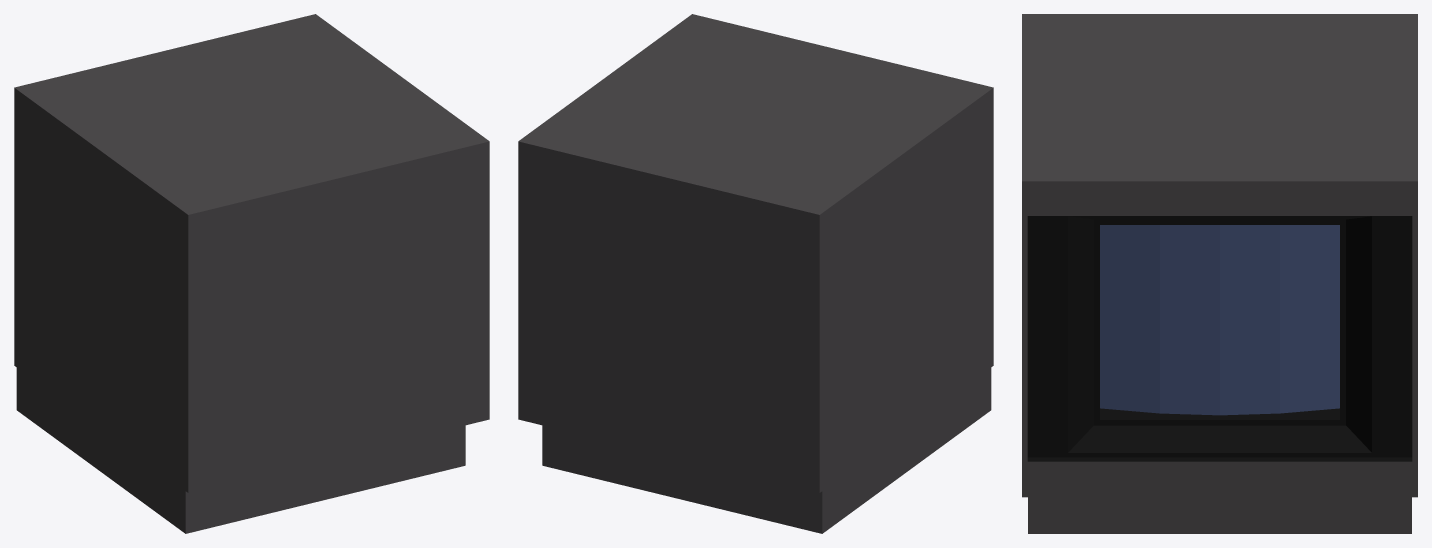
File: Display.glb
The picture shows the model from 3 angles, left to right: view 1: azimuth 30°, elevation 25°; view 2: azimuth 150°, elevation 25°; view 3: azimuth 270°, elevation 25°; orthographic projection. The views are drawn at different scales.
Parts seen in each view (by area): view 1: Cube; view 2: Cube; view 3: Cube.
Part boxes in pixels (left/top/right/bottom): Cube: left=14, top=14, right=489, bottom=533; Cube: left=518, top=14, right=993, bottom=533; Cube: left=1022, top=14, right=1417, bottom=533.
Size of the model in its own units: 2 by 2.03 by 2.
